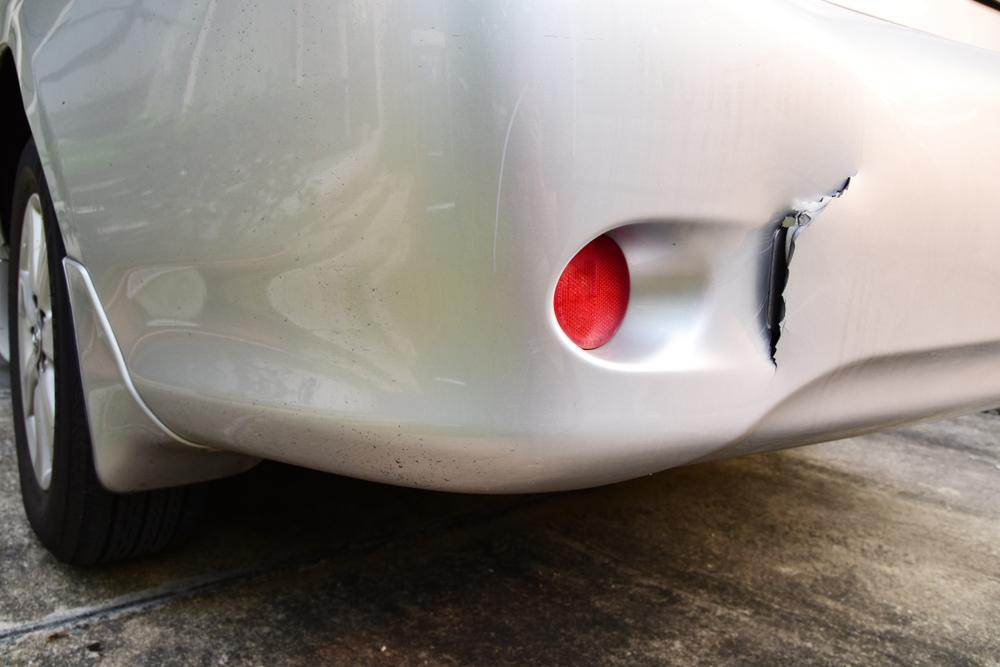crack: (766, 170, 858, 375)
